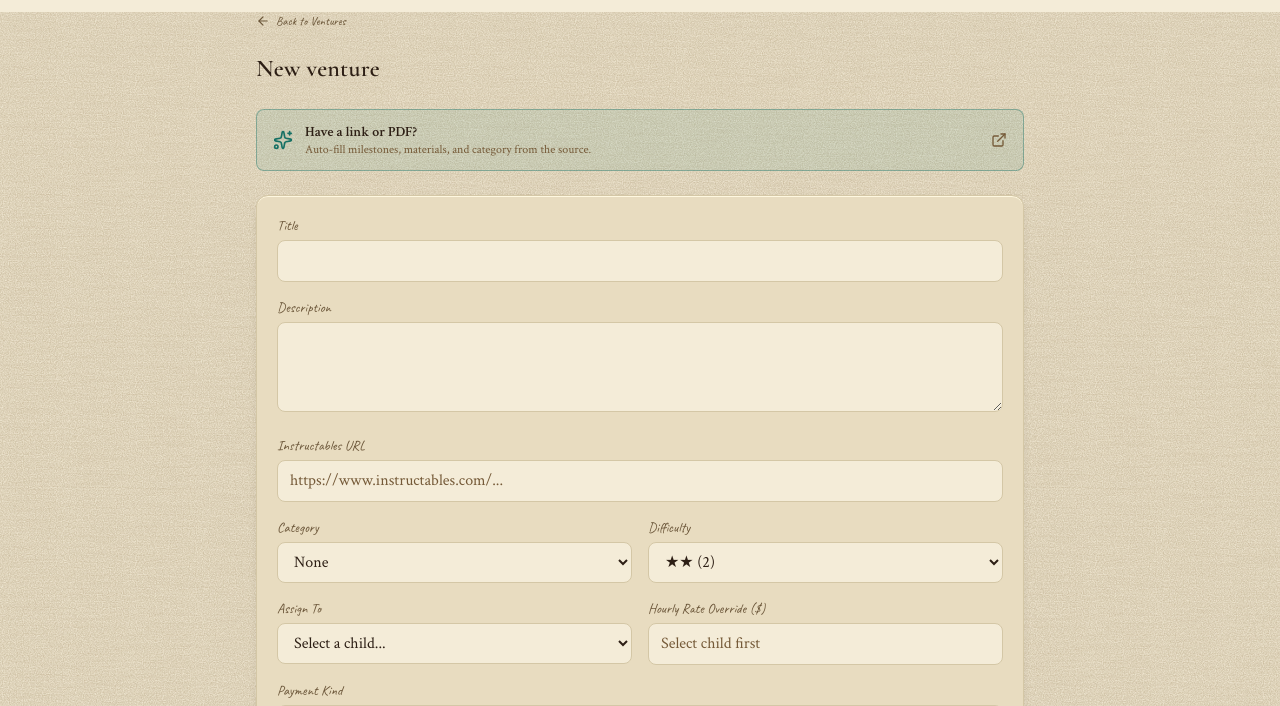
Scenario: ProjectNew › previews an Instructables URL on blur
Type "https://www.instructables.com/x" into the field labelled "Instructables URL" at {"x": 640, "y": 481}, box [277,460,1003,502]
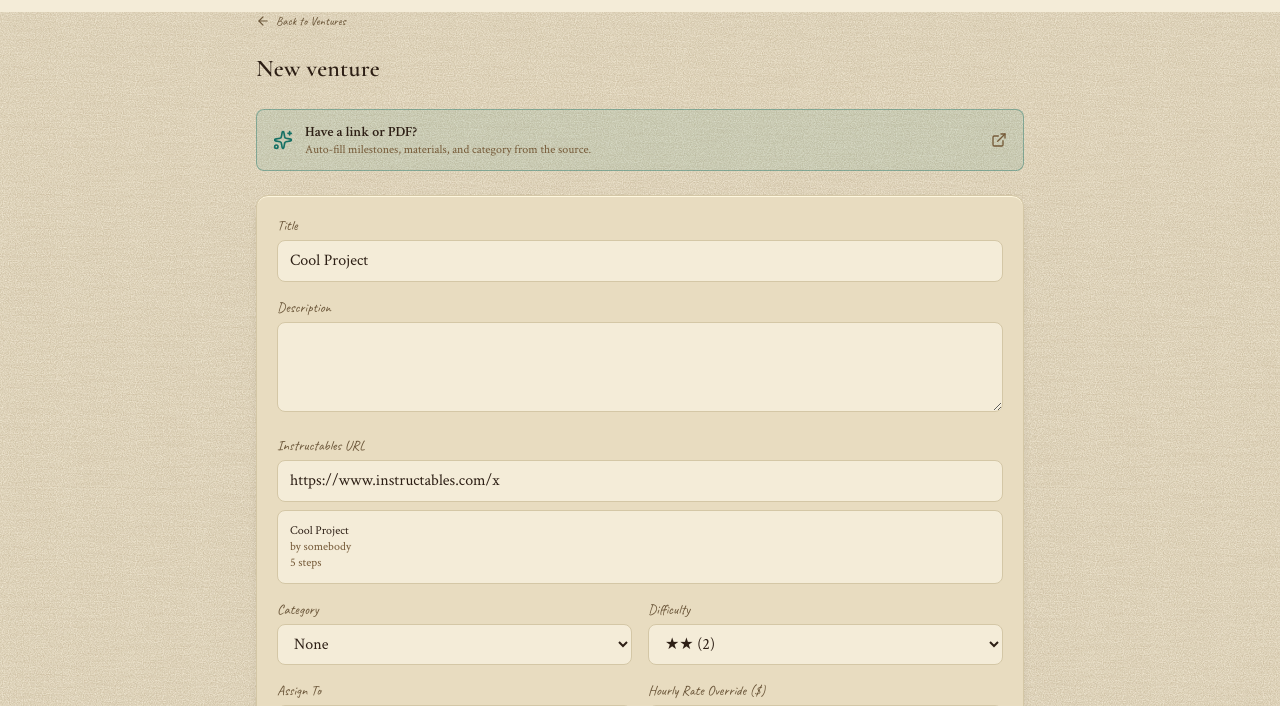
Expected: the text "Cool Project" is shown, [290,523,351,539]
